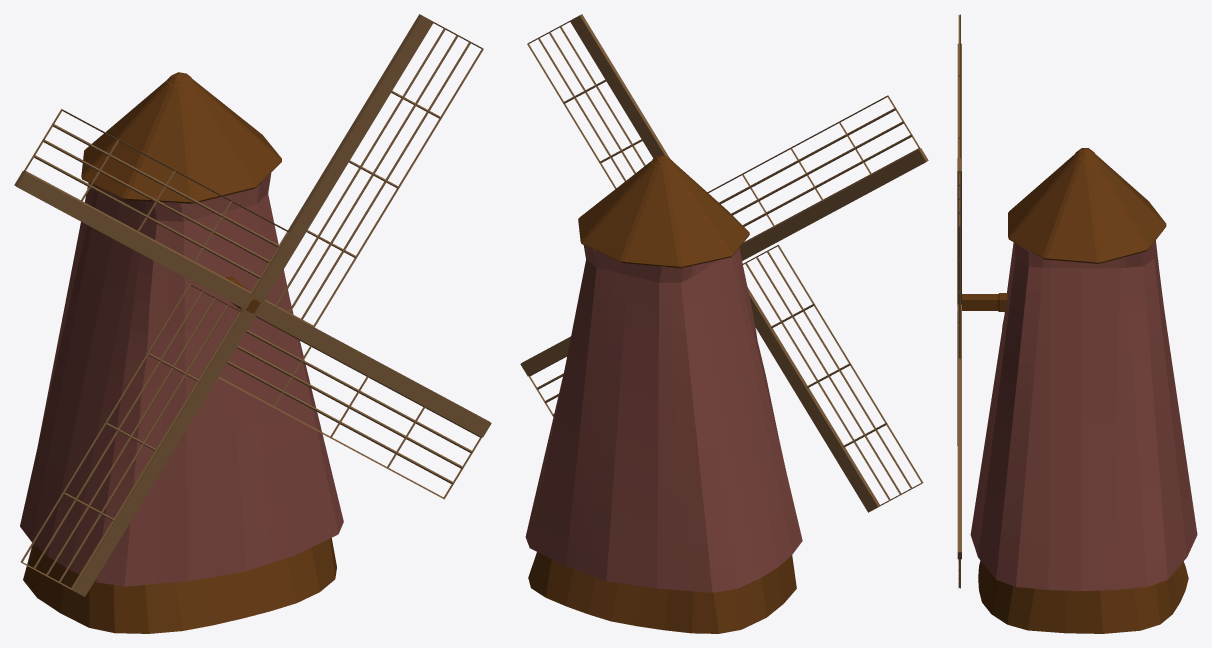
File: windmill.fbx
The picture shows the model from 3 angles, left to right: view 1: azimuth 30°, elevation 25°; view 2: azimuth 150°, elevation 25°; view 3: azimuth 270°, elevation 25°; orthographic projection. The views are drawn at different scales.
Parts seen in each view (by area): view 1: Top, fan.001, Tip, Base; view 2: Top, fan.001, Tip, Base; view 3: Top, Tip, Base, fan.001, fanCentre.
Part boxes in pixels (x1,y1,x2,y2): Top: (20, 173, 343, 586); fan.001: (14, 14, 491, 596); Tip: (81, 72, 281, 203); Base: (23, 538, 336, 633); Top: (525, 245, 802, 592); fan.001: (520, 14, 928, 512); Tip: (578, 155, 749, 268); Base: (528, 552, 796, 633); Top: (970, 240, 1197, 590); Tip: (1008, 148, 1166, 263); Base: (978, 560, 1188, 633); fan.001: (957, 14, 961, 588); fanCentre: (962, 293, 1007, 311).
Bounding box in the file's own units: 1502 × 1724 × 765.
